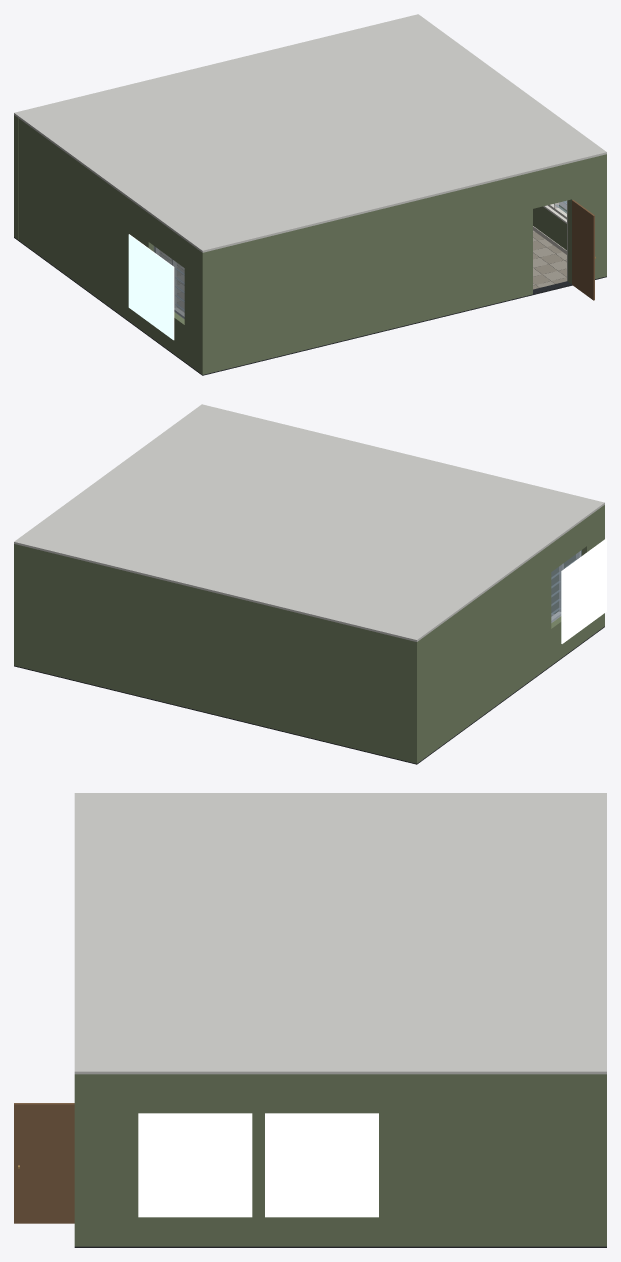
File: classroom.glb
3 renders of one model, top to bottom at view 1: azimuth 30°, elevation 25°; view 2: azimuth 150°, elevation 25°; view 3: azimuth 270°, elevation 25°, orthographic. The views are drawn at different scales.
Parts seen in each view (by area): view 1: classroom_room; view 2: classroom_room; view 3: classroom_room.
Boxes of the visible parts, box(x1,y1,x2,y2) form: classroom_room: box(14, 14, 606, 375); classroom_room: box(14, 404, 606, 764); classroom_room: box(14, 793, 606, 1247).
Bounding box in the file's own units: 11.2 × 3.07 × 9.36.
